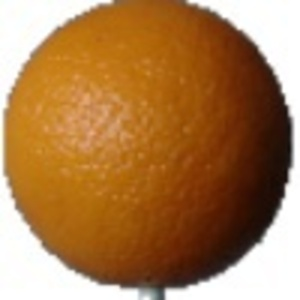laranja: (2, 2, 295, 292)
